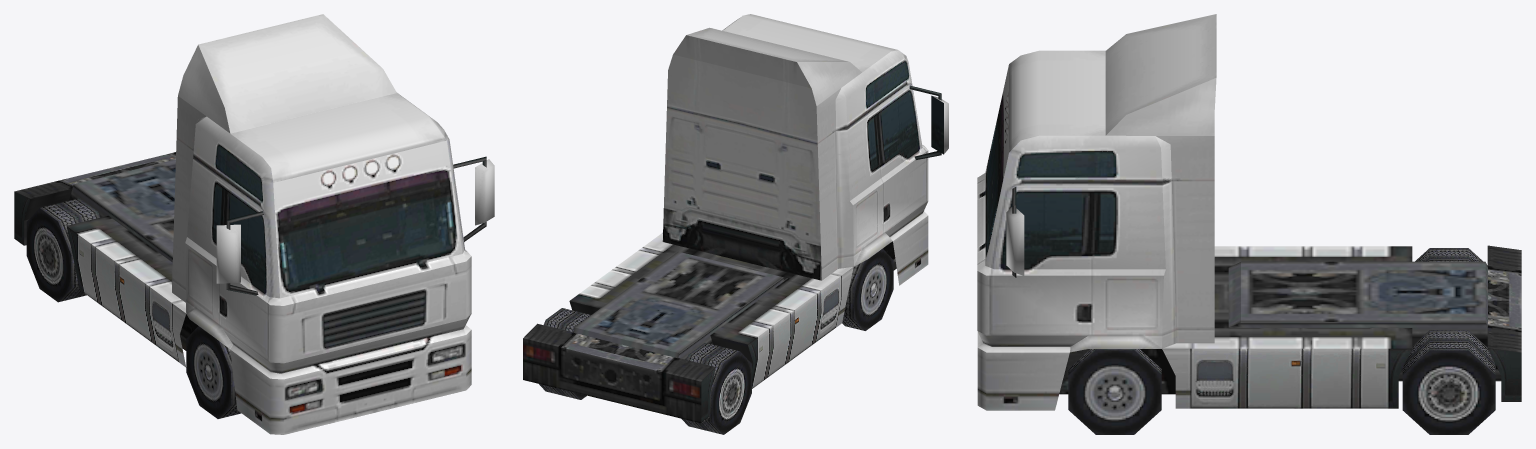
File: Car_Man.fbx
The picture shows the model from 3 angles, left to right: view 1: azimuth 30°, elevation 25°; view 2: azimuth 150°, elevation 25°; view 3: azimuth 270°, elevation 25°; orthographic projection. The views are drawn at different scales.
Parts seen in each view (by area): view 1: Car_Man; view 2: Car_Man; view 3: Car_Man.
Part boxes in pixels (x1,y1,x2,y2): Car_Man: [14, 14, 494, 434]; Car_Man: [523, 14, 948, 434]; Car_Man: [977, 14, 1521, 434].
Size of the model in its own units: 3.33 by 3.75 by 5.48.
